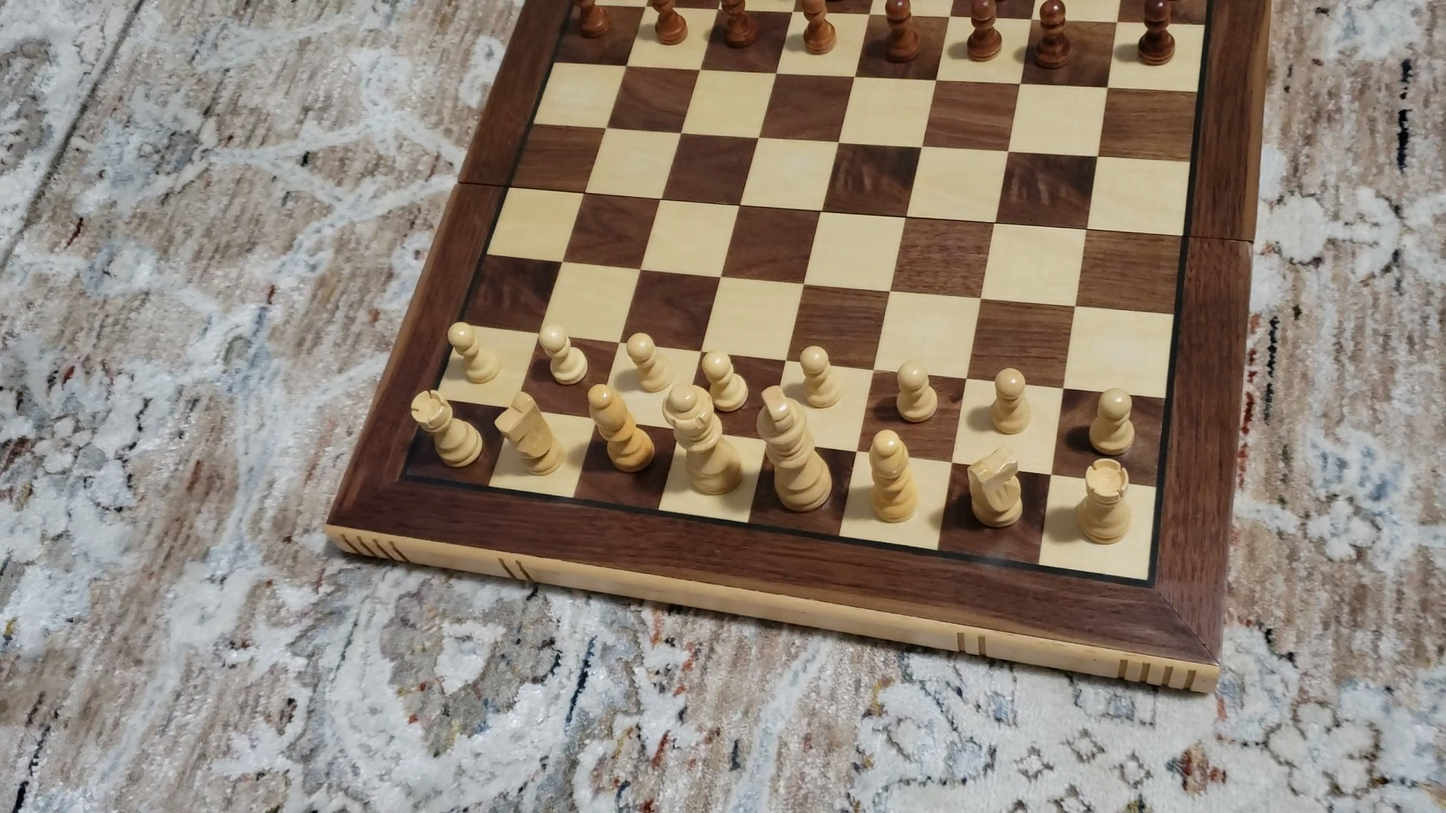black-pawn: (1031, 0, 1072, 70), (1136, 0, 1176, 67), (883, 0, 918, 64), (966, 0, 1000, 62), (801, 0, 835, 55), (718, 0, 755, 49), (652, 0, 686, 46), (574, 0, 609, 40)
white-bishop: (582, 381, 658, 475), (864, 426, 922, 527)
white-king: (751, 384, 837, 519)
white-knight: (493, 390, 565, 479), (963, 443, 1027, 531)
white-pawn: (1085, 384, 1140, 460), (444, 318, 501, 386), (535, 321, 589, 387), (987, 363, 1034, 438), (698, 347, 749, 415), (890, 356, 939, 426), (621, 329, 672, 395), (795, 342, 843, 409)
white-queen: (659, 379, 747, 501)
white-rook: (405, 387, 489, 471), (1072, 456, 1138, 548)
